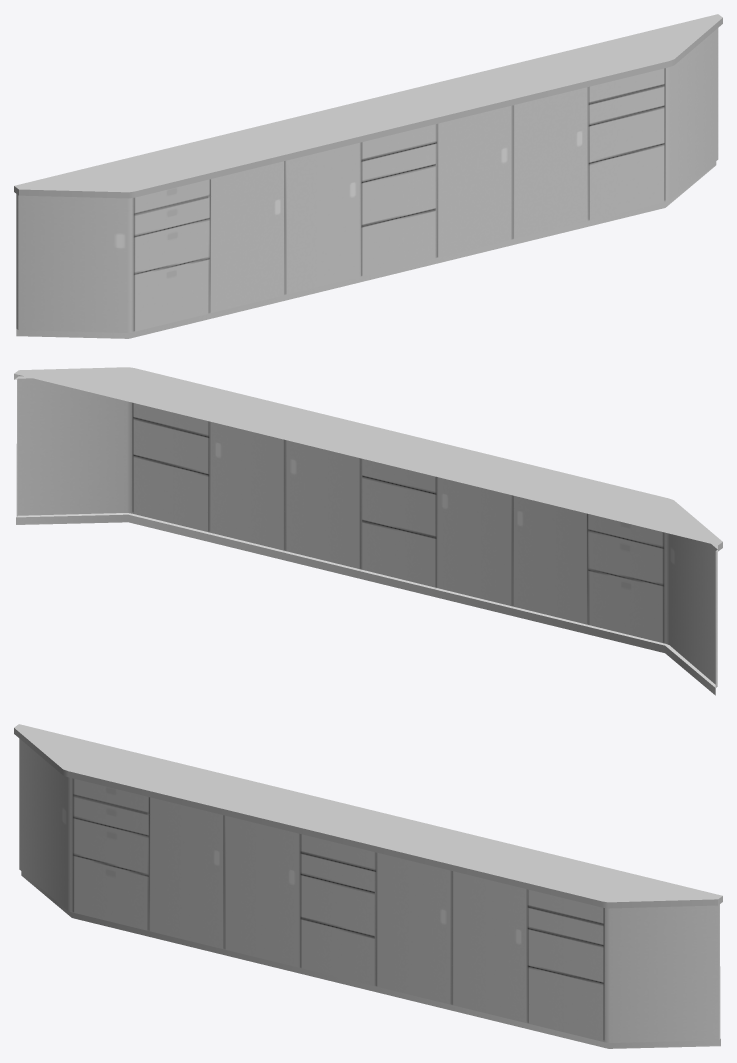
The model's file is Bar04_4.FBX.
The picture shows the model from 3 angles, top to bottom: view 1: azimuth 30°, elevation 25°; view 2: azimuth 150°, elevation 25°; view 3: azimuth 330°, elevation 25°; orthographic projection.
Visible parts, largest first — view 1: Bar04_4; view 2: Bar04_4; view 3: Bar04_4.
Boxes of the visible parts, bbox=[...] form: Bar04_4: bbox=[14, 14, 722, 338]; Bar04_4: bbox=[14, 367, 722, 695]; Bar04_4: bbox=[14, 724, 722, 1048].
Size of the model in its own units: 601 by 123 by 53.17.
